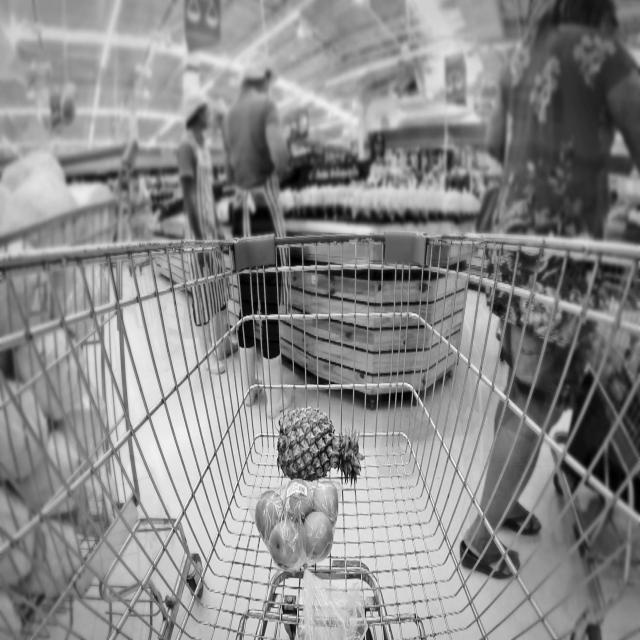apple: (252, 478, 348, 568)
pineapple: (274, 404, 364, 484)
